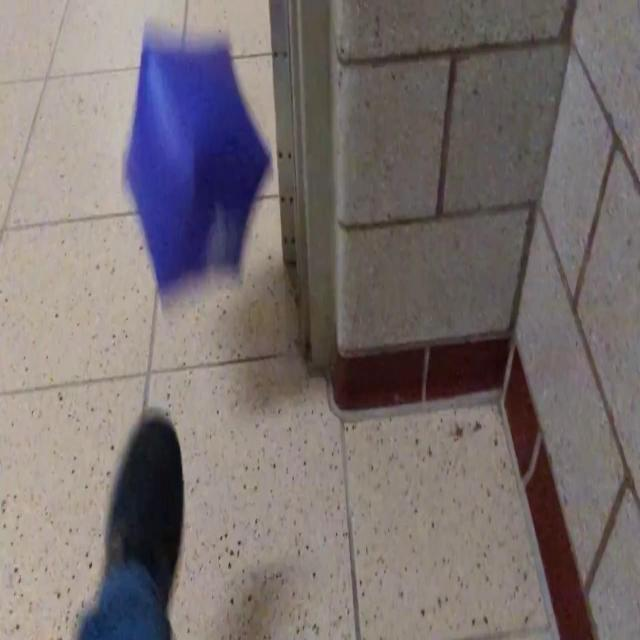frc_cube: (125, 44, 271, 288)
